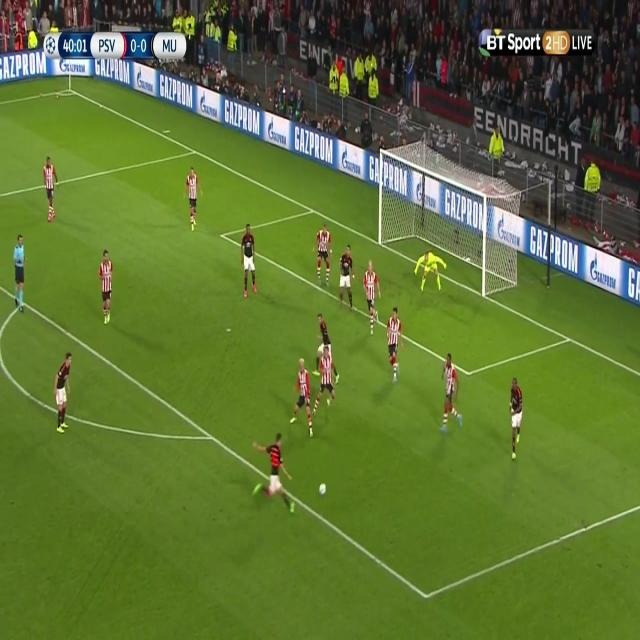Ball: (317, 479, 329, 498)
Goalkeeper: (413, 249, 447, 296)
Player: (251, 430, 295, 518), (288, 356, 316, 442), (311, 311, 343, 385), (439, 352, 463, 434), (311, 345, 337, 419), (54, 348, 74, 437), (312, 220, 335, 292), (506, 374, 524, 462), (362, 260, 382, 338), (238, 223, 258, 300), (96, 248, 115, 329), (182, 165, 204, 232), (386, 304, 404, 381), (41, 153, 60, 224), (338, 246, 356, 315)
Referee: (12, 231, 28, 314)
